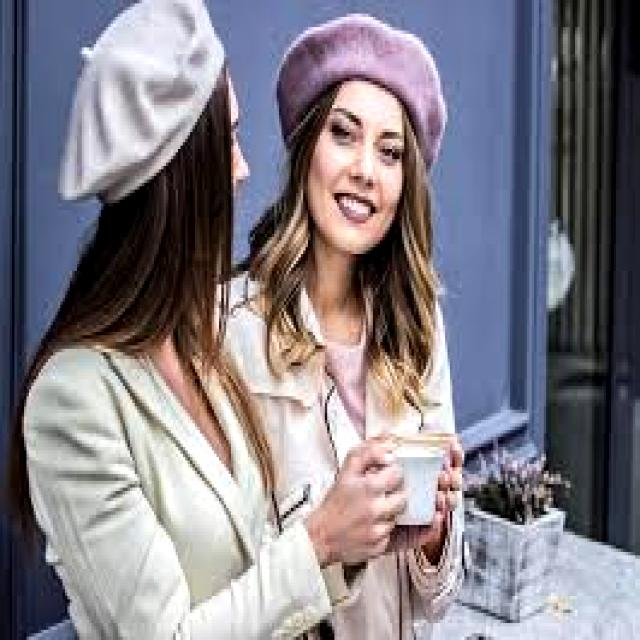hat: (58, 0, 223, 203), (277, 14, 447, 169)
